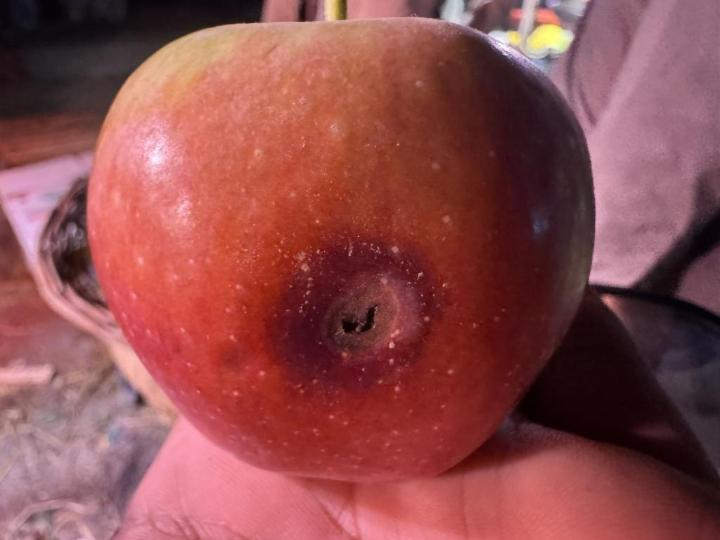apple: (88, 18, 594, 482)
surface_damage: (321, 278, 411, 358)
